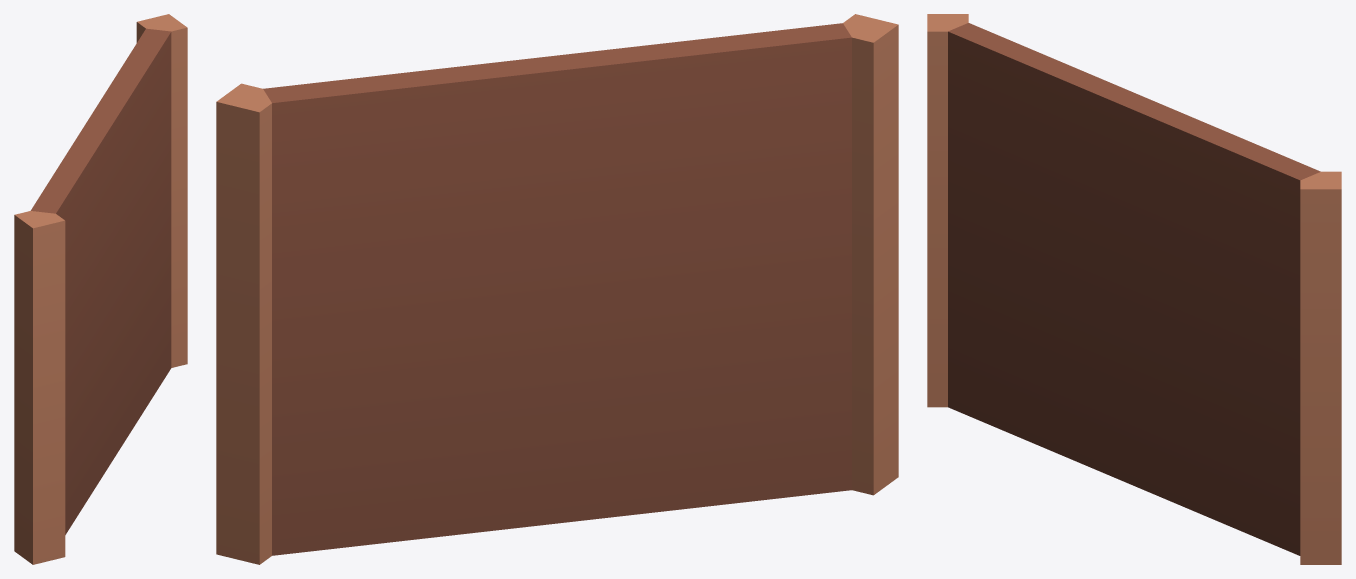
File: wall-wood-diagonal.glb
3 renders of one model, left to right at view 1: azimuth 30°, elevation 25°; view 2: azimuth 150°, elevation 25°; view 3: azimuth 270°, elevation 25°, orthographic. The views are drawn at different scales.
Visible parts, largest first — view 1: wall-wood-diagonal; view 2: wall-wood-diagonal; view 3: wall-wood-diagonal.
Boxes of the visible parts, x1=… form: wall-wood-diagonal: x1=14, y1=14, x2=187, y2=564; wall-wood-diagonal: x1=216, y1=14, x2=898, y2=564; wall-wood-diagonal: x1=927, y1=14, x2=1341, y2=564.
Bounding box in the file's own units: 1 × 1 × 1.
Materials: 1 (1 with a texture image).
